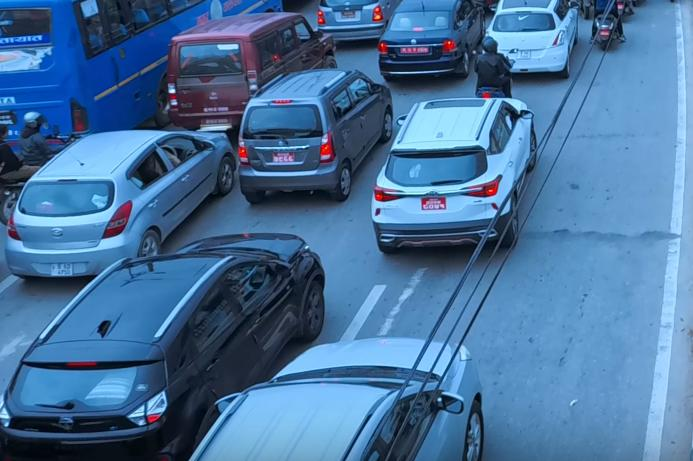SUV: (157, 11, 338, 127)
car: (0, 229, 330, 461), (0, 121, 245, 279), (181, 336, 487, 461), (370, 76, 545, 260), (235, 65, 391, 194), (377, 0, 488, 80)
